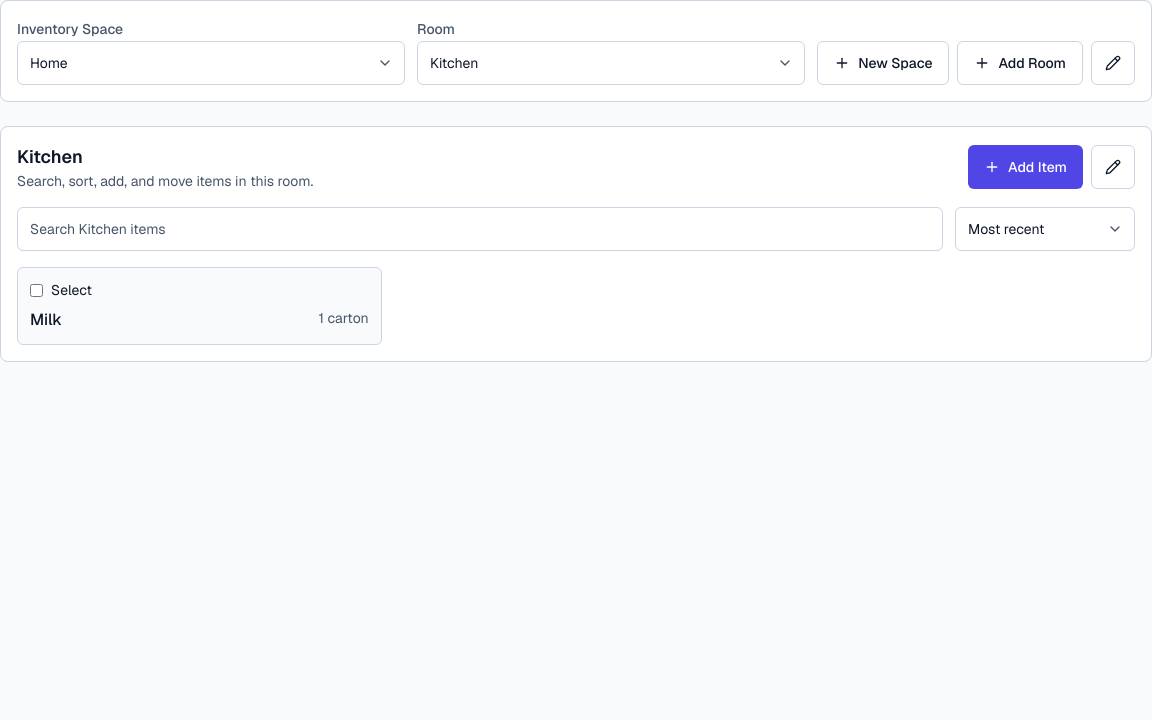
Test case: RoomDashboardSurface › shows deterministic per-item failures for bulk move
Click the checkbox named "Select Milk" at (36, 290), box [30,284,43,296]
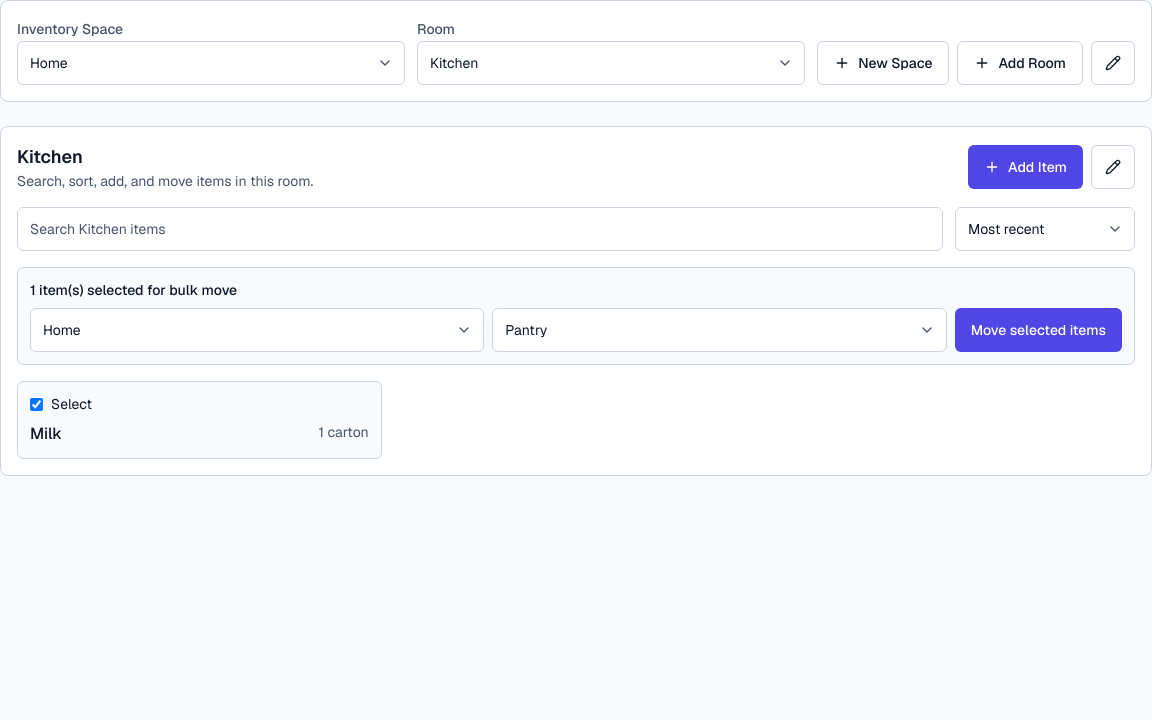
Select "Cabin" in the dropdown named "Move destination space" at (257, 330), box [30,308,484,352]
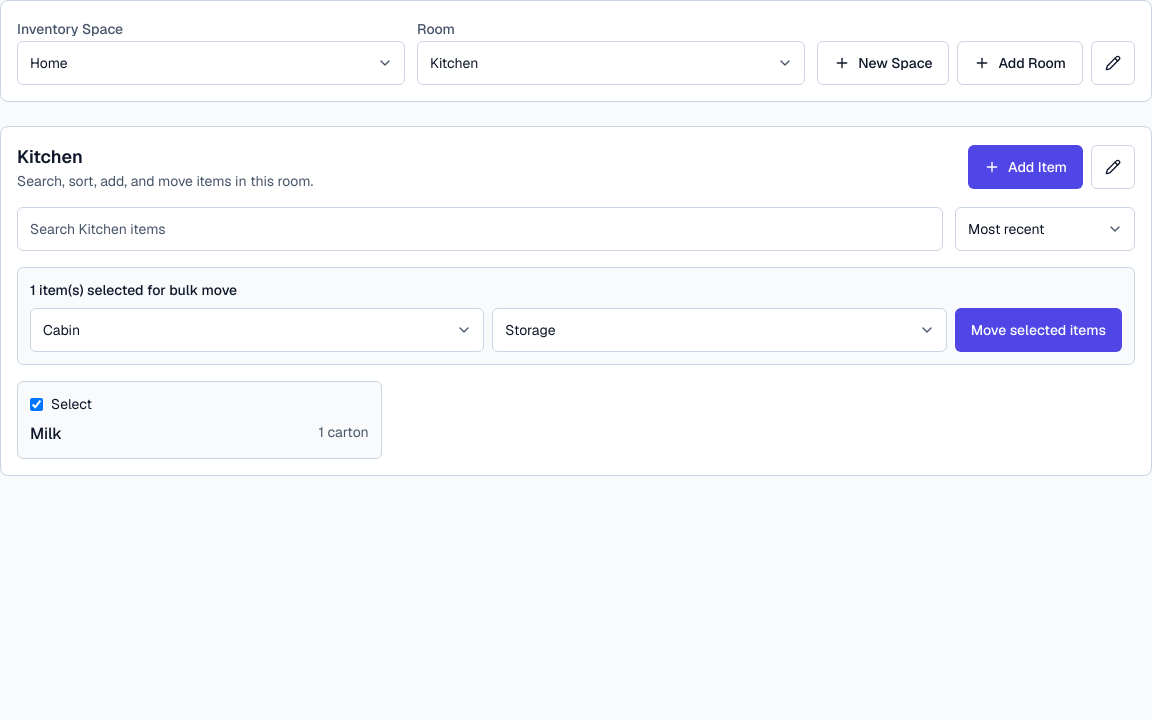
Select "Storage" in the dropdown named "Move destination room" at (719, 330), box [492,308,947,352]
Click the button "Move selected items" at (1038, 330), box [955,308,1122,352]
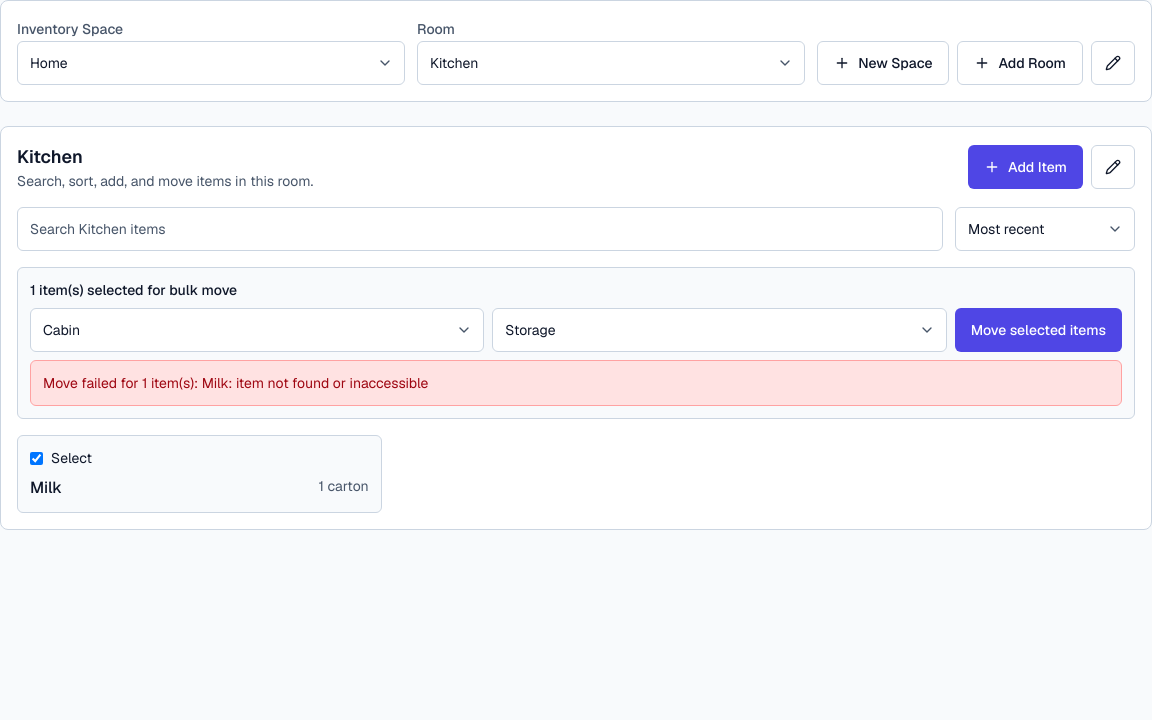
Now the text "Move failed for 1 item(s): Milk: item not found or inaccessible" is shown, box [30,360,1122,406]
